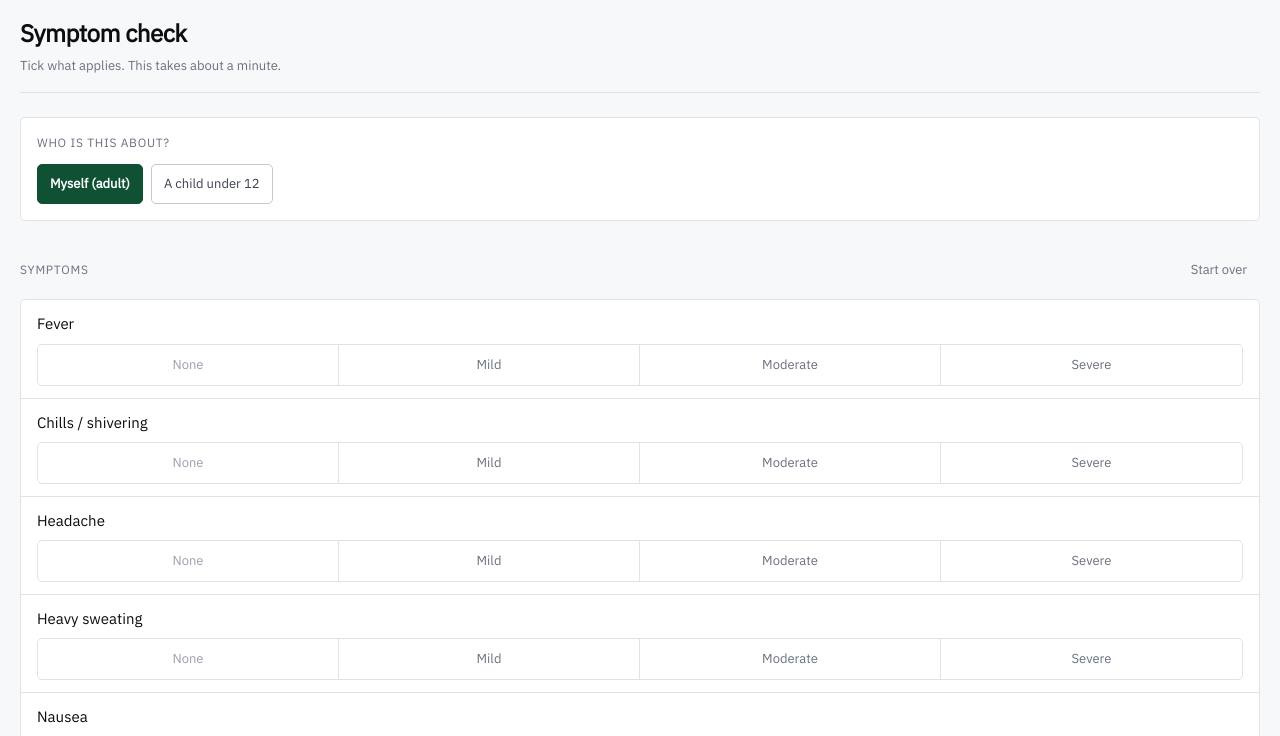
Test case: child mode › shows extra guidance when the assessment is about a child
This screenshot has width=1280, height=736.
Click the radio button labelled "A child under 12". click: [212, 184]
box: [151,164,272,204]
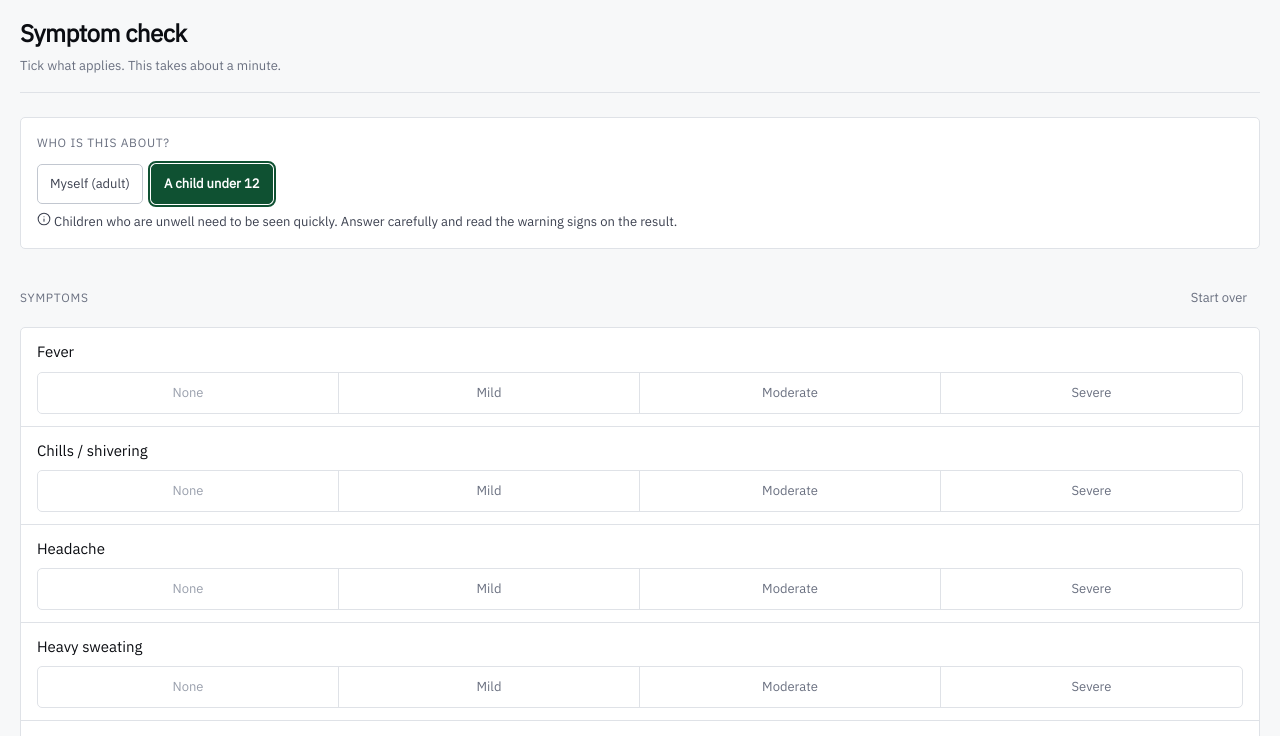
Expected: the text "Children who are unwell need to be seen quickly" is shown, [54,213,677,230]
